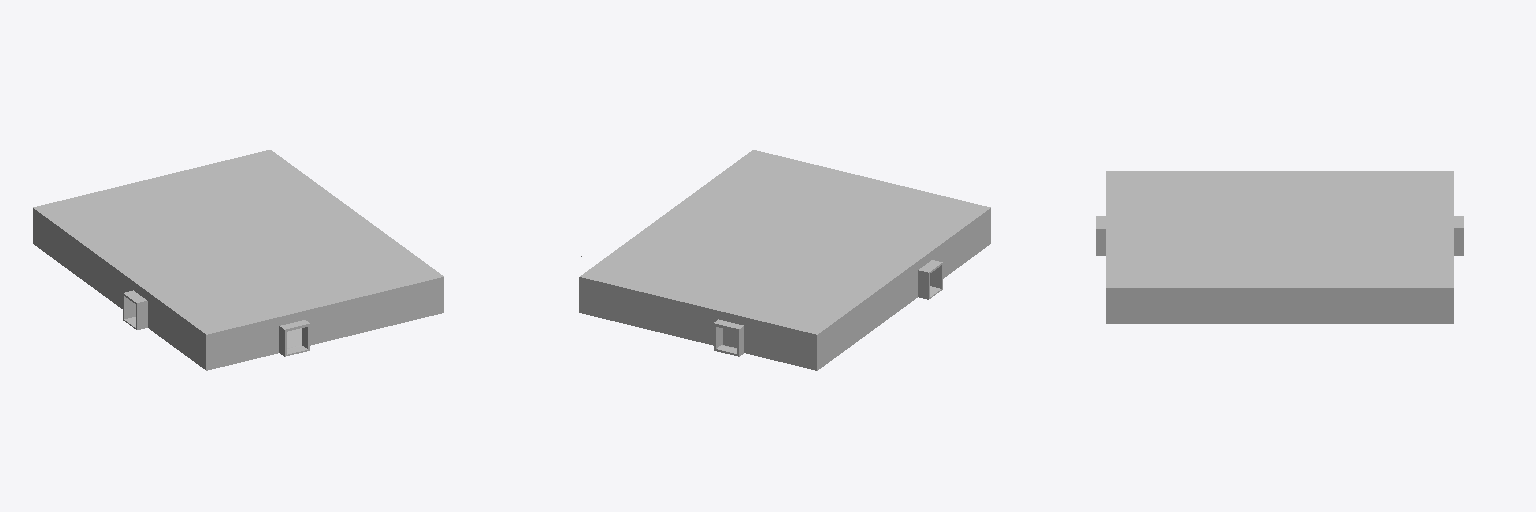
The model's file is RoomSeven.obj.
The picture shows the model from 3 angles: view 1: azimuth 30°, elevation 25°; view 2: azimuth 150°, elevation 25°; view 3: azimuth 270°, elevation 25°; orthographic projection.
Parts seen in each view (by area): view 1: Cube; view 2: Cube; view 3: Cube.
Boxes of the visible parts, x1=… form: Cube: x1=33, y1=150, x2=443, y2=370; Cube: x1=579, y1=150, x2=990, y2=370; Cube: x1=1096, y1=171, x2=1463, y2=323.
Size of the model in its own units: 17.7 by 2.08 by 19.2.